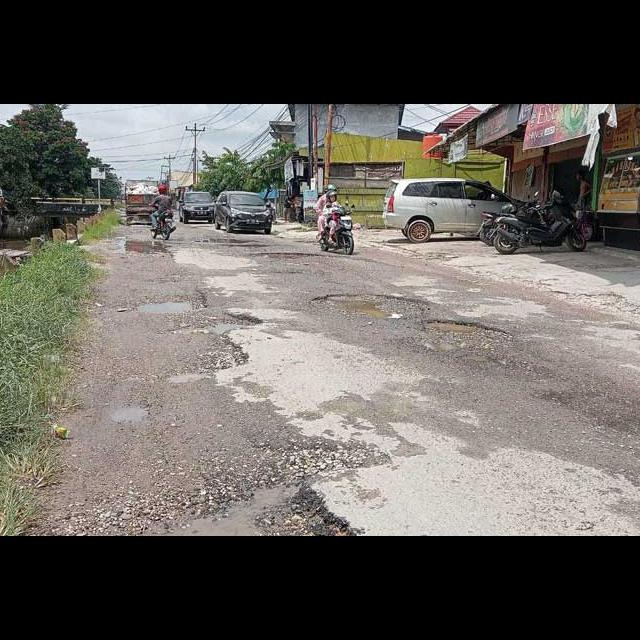lubang_kecil: (250, 418, 396, 496), (298, 283, 434, 325), (396, 307, 512, 355), (152, 306, 271, 341), (116, 284, 207, 315), (238, 244, 330, 271)
